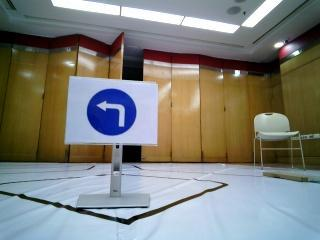left: (79, 80, 146, 143)
